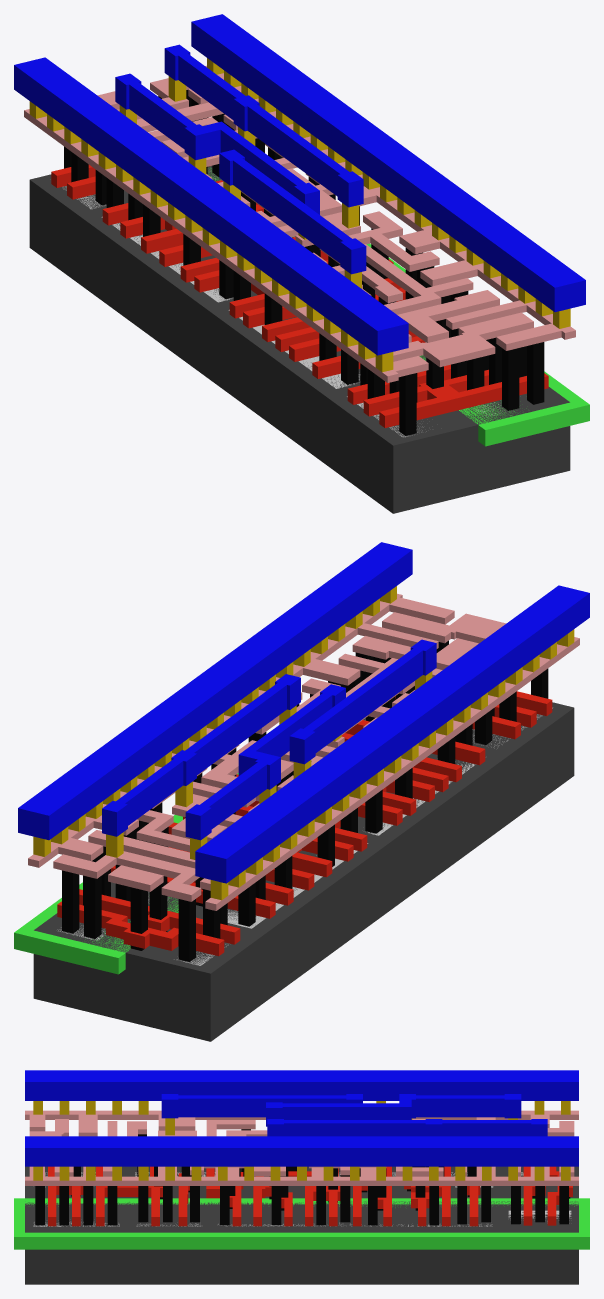
Rendered from sky130_fd_sc_hd__dfstp_2.obj.
The picture shows the model from 3 angles, top to bottom: view 1: azimuth 30°, elevation 25°; view 2: azimuth 150°, elevation 25°; view 3: azimuth 270°, elevation 25°; orthographic projection. The views are drawn at different scales.
Parts seen in each view (by area): view 1: metal1, subs, li, licon, poly, mcon, nwell, diff; view 2: metal1, subs, li, licon, poly, mcon, nwell, diff; view 3: metal1, subs, nwell, li, licon, poly, mcon, tap.
Boxes of the visible parts, x1,y1,x2,y2 form: metal1: (14,14,585,355); subs: (29,166,570,513); li: (24,65,575,382); licon: (64,90,544,435); poly: (51,164,548,427); mcon: (29,58,570,372); nwell: (208,167,589,446); diff: (62,186,426,437); metal1: (18,542,589,883); subs: (33,702,574,1041); li: (28,593,579,910); licon: (62,640,548,961); poly: (57,691,552,956); mcon: (33,586,574,900); nwell: (14,773,238,974); diff: (174,707,552,965); metal1: (25,1070,578,1166); subs: (25,1166,578,1284); nwell: (14,1198,589,1249); li: (25,1110,578,1185); licon: (35,1129,570,1225); poly: (48,1166,572,1226); mcon: (33,1101,570,1180); tap: (33,1210,571,1226).
Size of the model in its own units: 3.2 by 2.74 by 10.04.
